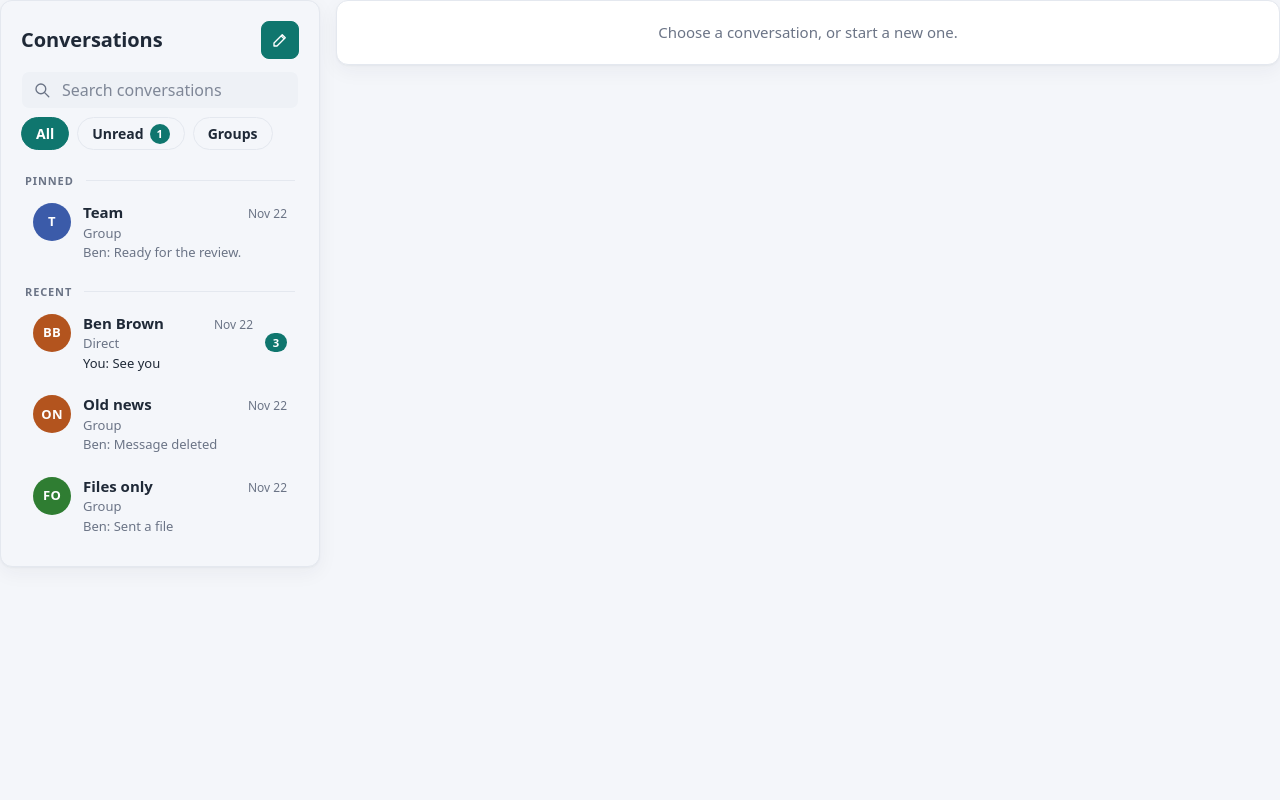
Scenario: ConversationsPage › shows pinned conversations first, last-message previews, and filters by chip and search
Expected: the button "T Team Nov 22 Group Ben: Ready for the review." is shown, [21,191,299,273]
Expected: the button "BB Ben Brown Nov 22 Direct You: See you 3" is shown, [21,302,299,383]
Click the button "Unread 1" at (131, 134), box [77,117,185,150]
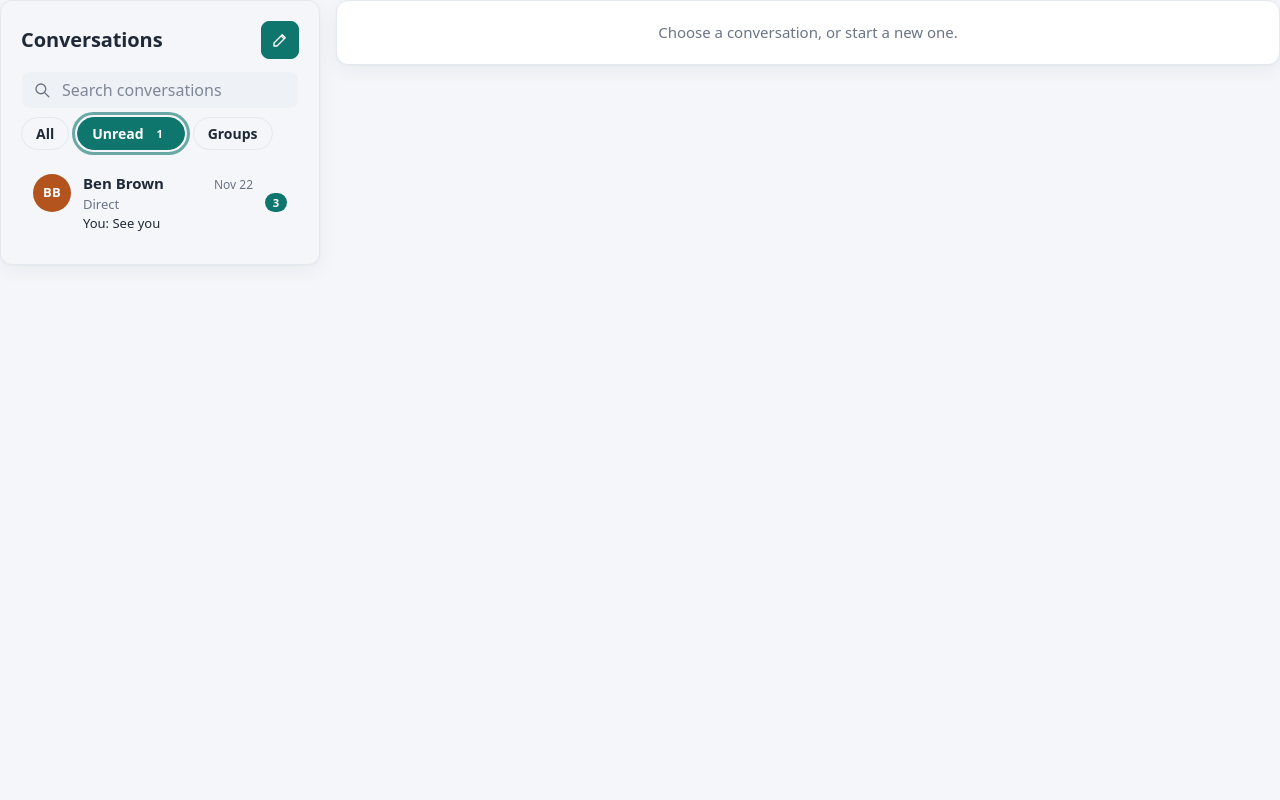
Click the button "Groups" at (233, 134), box [193,117,273,150]
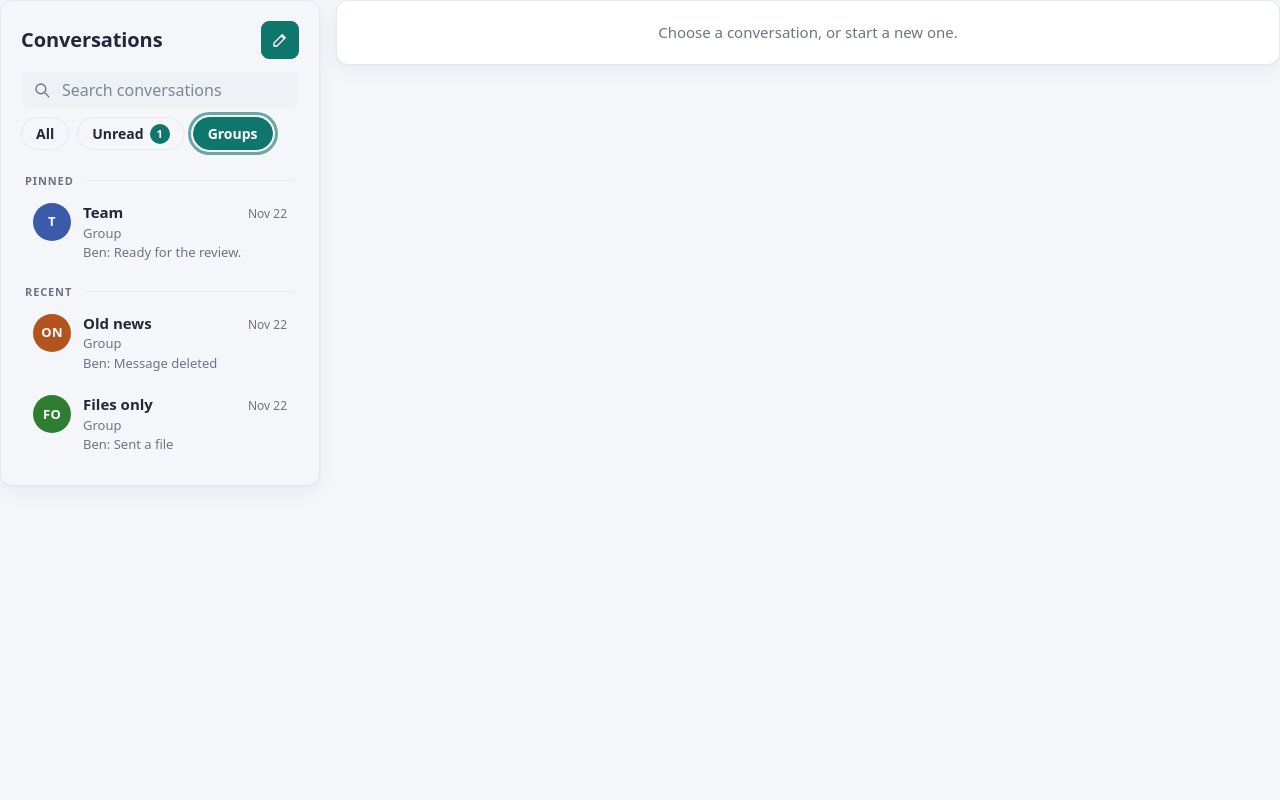
Expected: the button "Ben Brown" is gone
Click the button "All" at (45, 134), box [21,117,69,150]
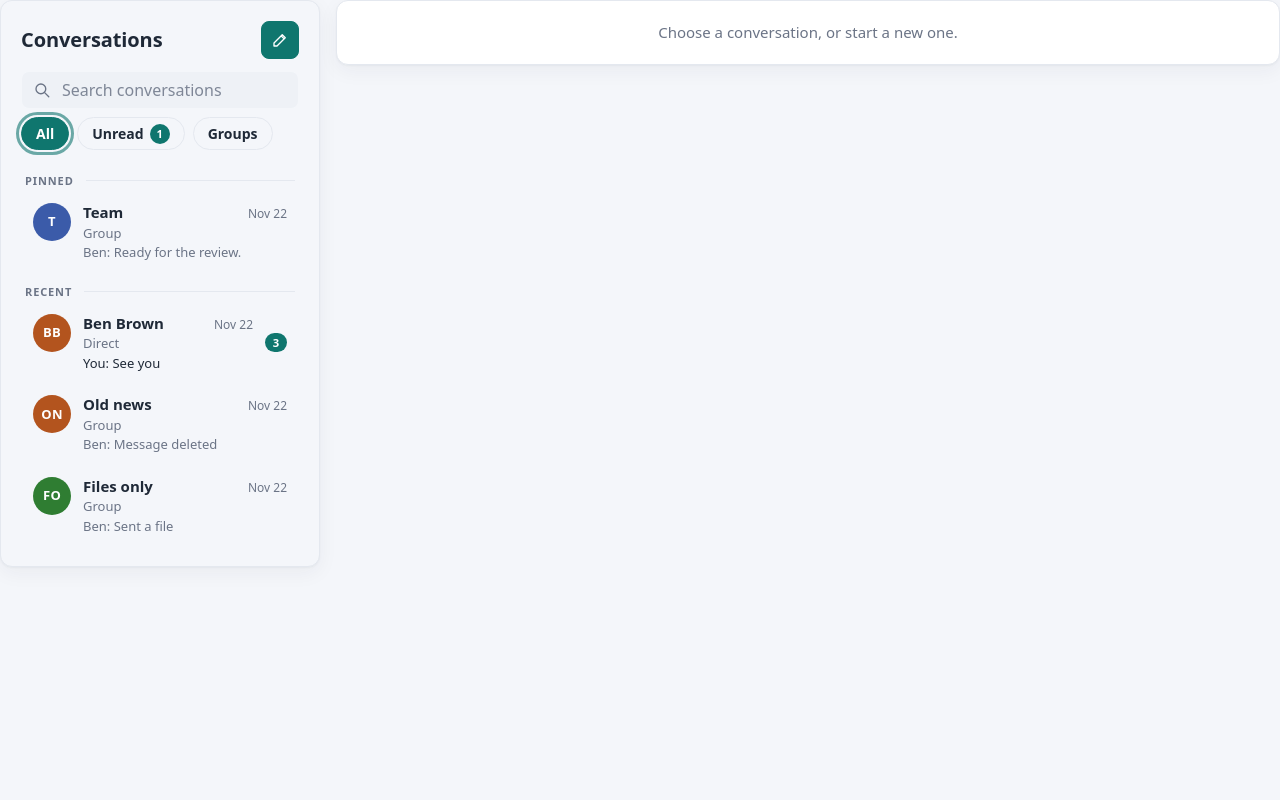
Type "files" into the search field labelled "Search conversations" at (160, 90), box [21,71,299,109]
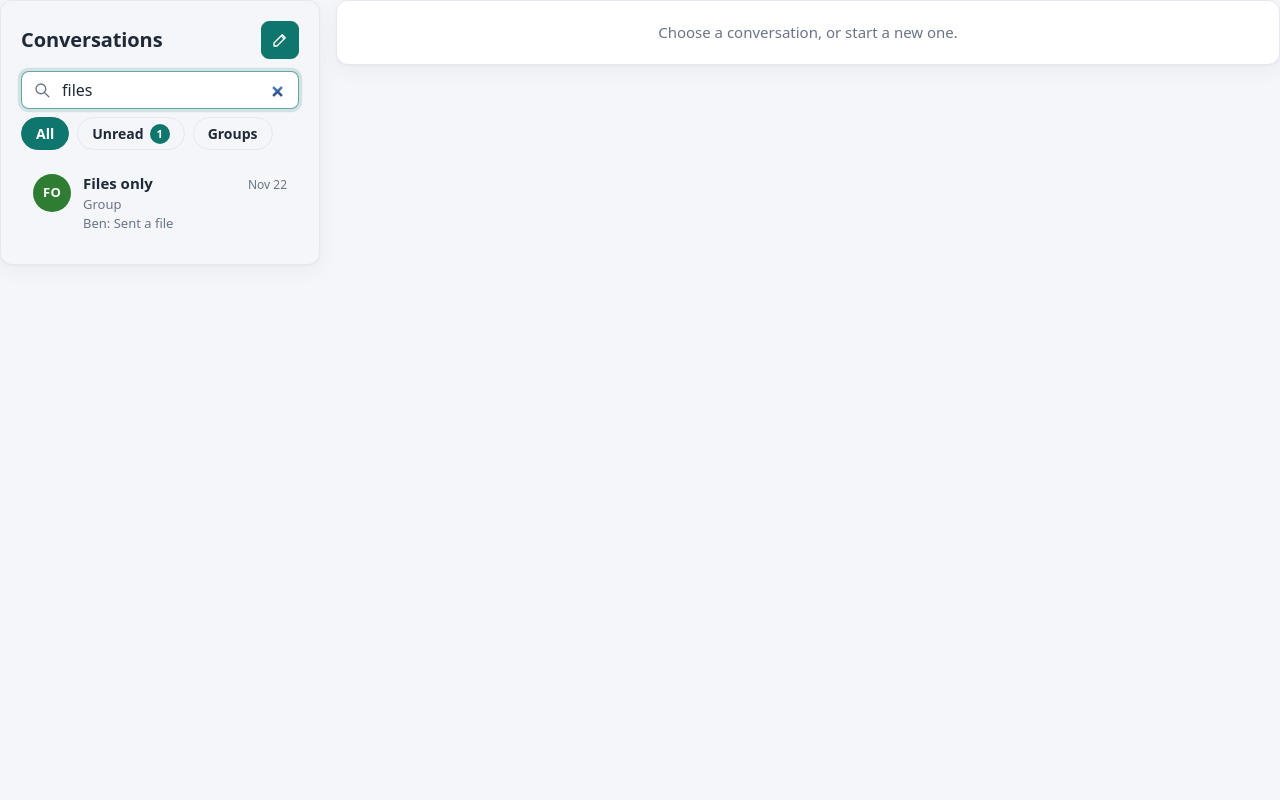
Expected: the button "FO Files only Nov 22 Group Ben: Sent a file" is shown, [21,162,299,244]
Expected: the button "Team" is gone
